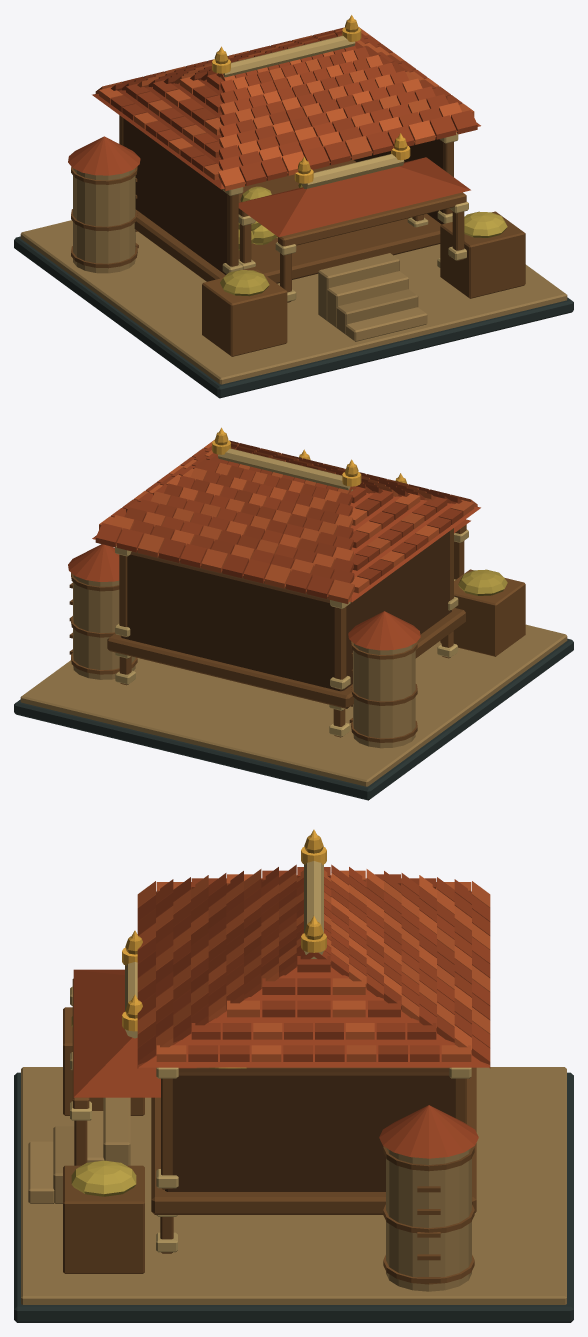
The picture shows the model from 3 angles, top to bottom: view 1: azimuth 30°, elevation 25°; view 2: azimuth 150°, elevation 25°; view 3: azimuth 270°, elevation 25°; orthographic projection. The views are drawn at different scales.
Parts seen in each view (by area): view 1: granary_5_structure, granary_5_metal; view 2: granary_5_structure, granary_5_metal; view 3: granary_5_structure, granary_5_metal.
Boxes of the visible parts, box(x1,y1,x2,y2) form: granary_5_structure: box(14, 19, 573, 398); granary_5_metal: box(212, 15, 410, 183); granary_5_structure: box(14, 432, 573, 800); granary_5_metal: box(212, 427, 403, 486); granary_5_structure: box(14, 835, 573, 1322); granary_5_metal: box(122, 829, 326, 1031).
Size of the model in its own units: 5.6 by 3.68 by 5.6.
